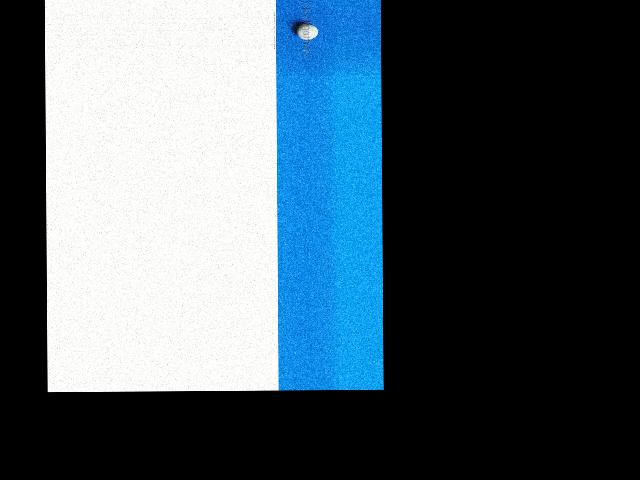egg: (296, 23, 318, 39)
